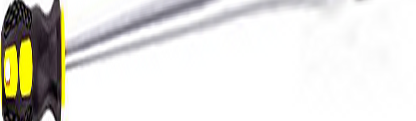screwdriver: (2, 1, 366, 121)
